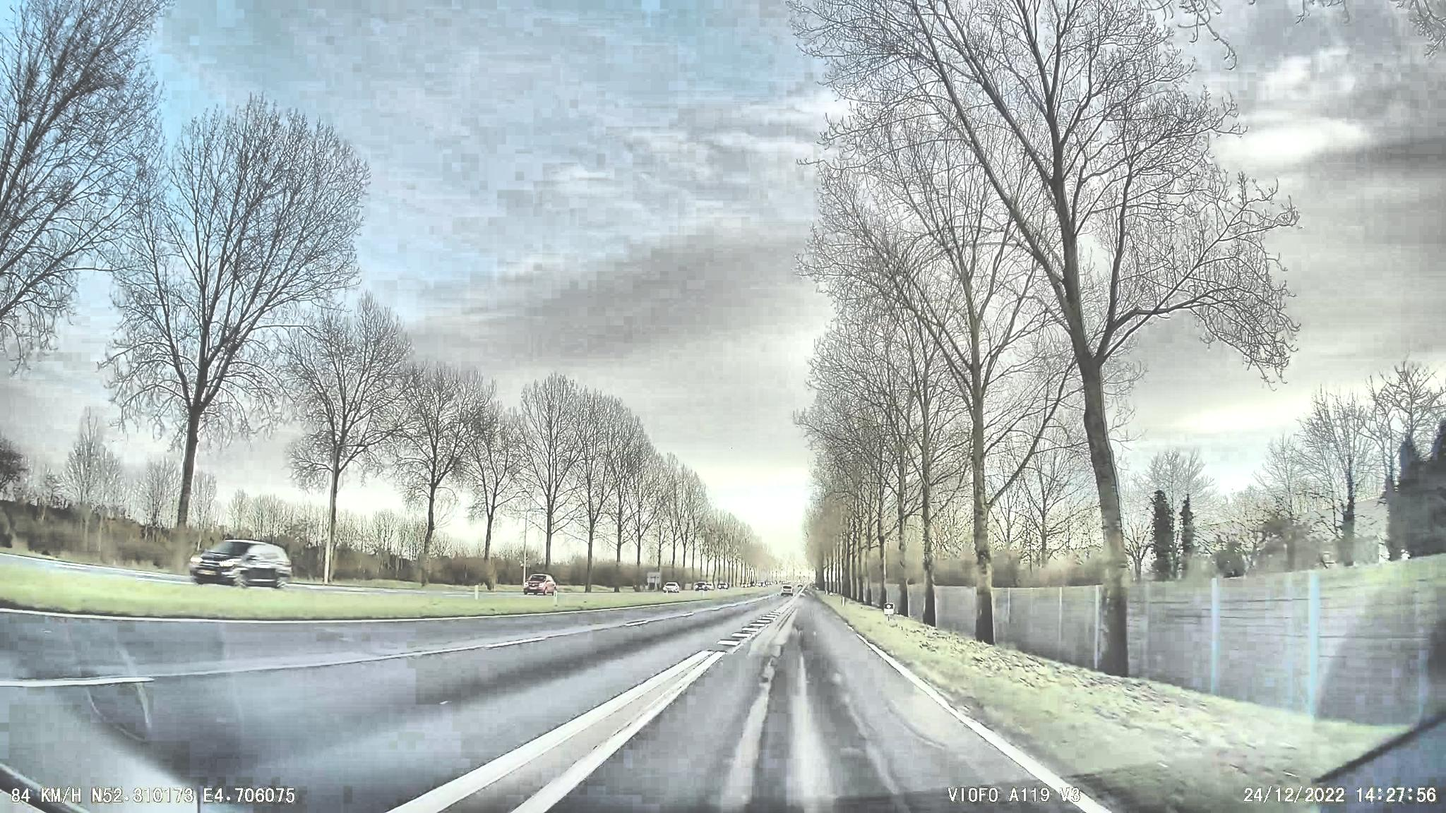Roads: (0, 592, 1095, 813)
